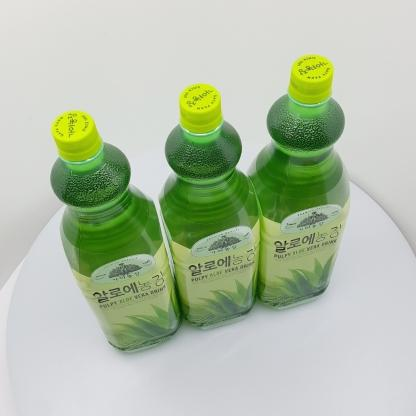-------1-5L: (50, 110, 183, 353), (244, 55, 350, 310), (158, 83, 260, 330)
